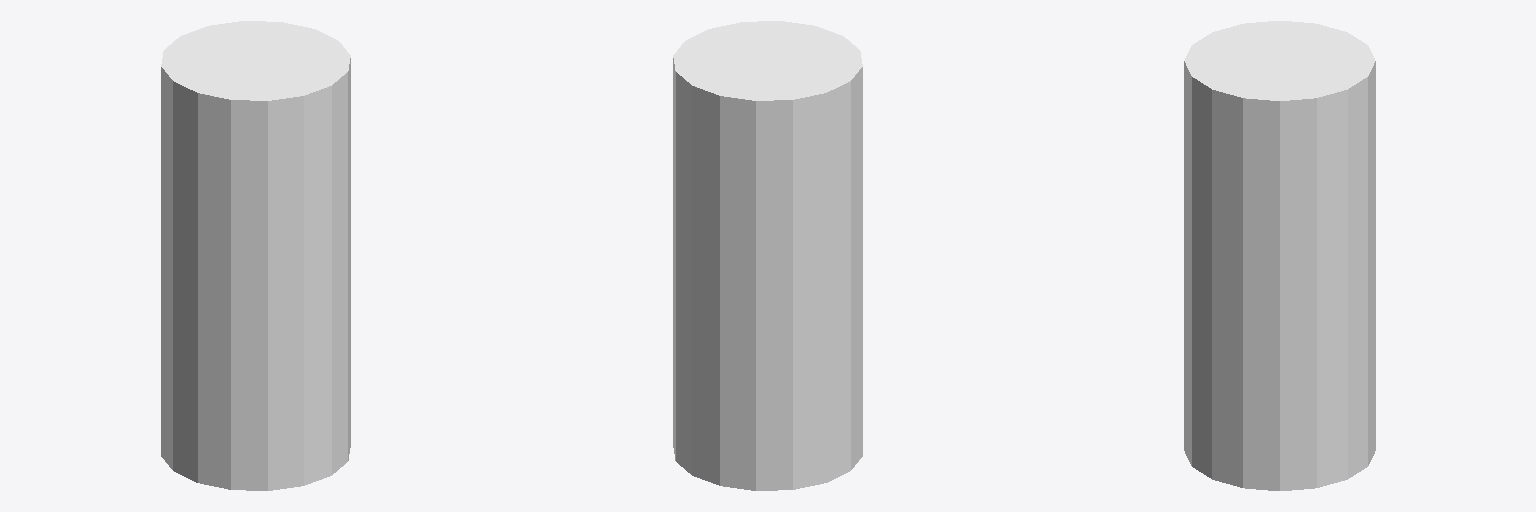
The model's file is 玻璃材质.obj.
The picture shows the model from 3 angles: view 1: azimuth 30°, elevation 25°; view 2: azimuth 150°, elevation 25°; view 3: azimuth 270°, elevation 25°; orthographic projection.
Visible parts, largest first — view 1: |gong001|Root|clear_glass; view 2: |gong001|Root|clear_glass; view 3: |gong001|Root|clear_glass.
Boxes of the visible parts, <box> form: |gong001|Root|clear_glass: <box>161,21,350,490</box>; |gong001|Root|clear_glass: <box>673,21,862,490</box>; |gong001|Root|clear_glass: <box>1184,21,1375,490</box>.
Bounding box in the file's own units: 16 × 36 × 16.